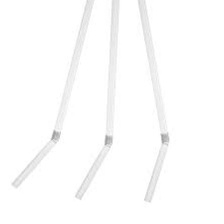drinking_straw: (7, 0, 103, 193), (71, 0, 124, 204), (131, 0, 175, 207)
